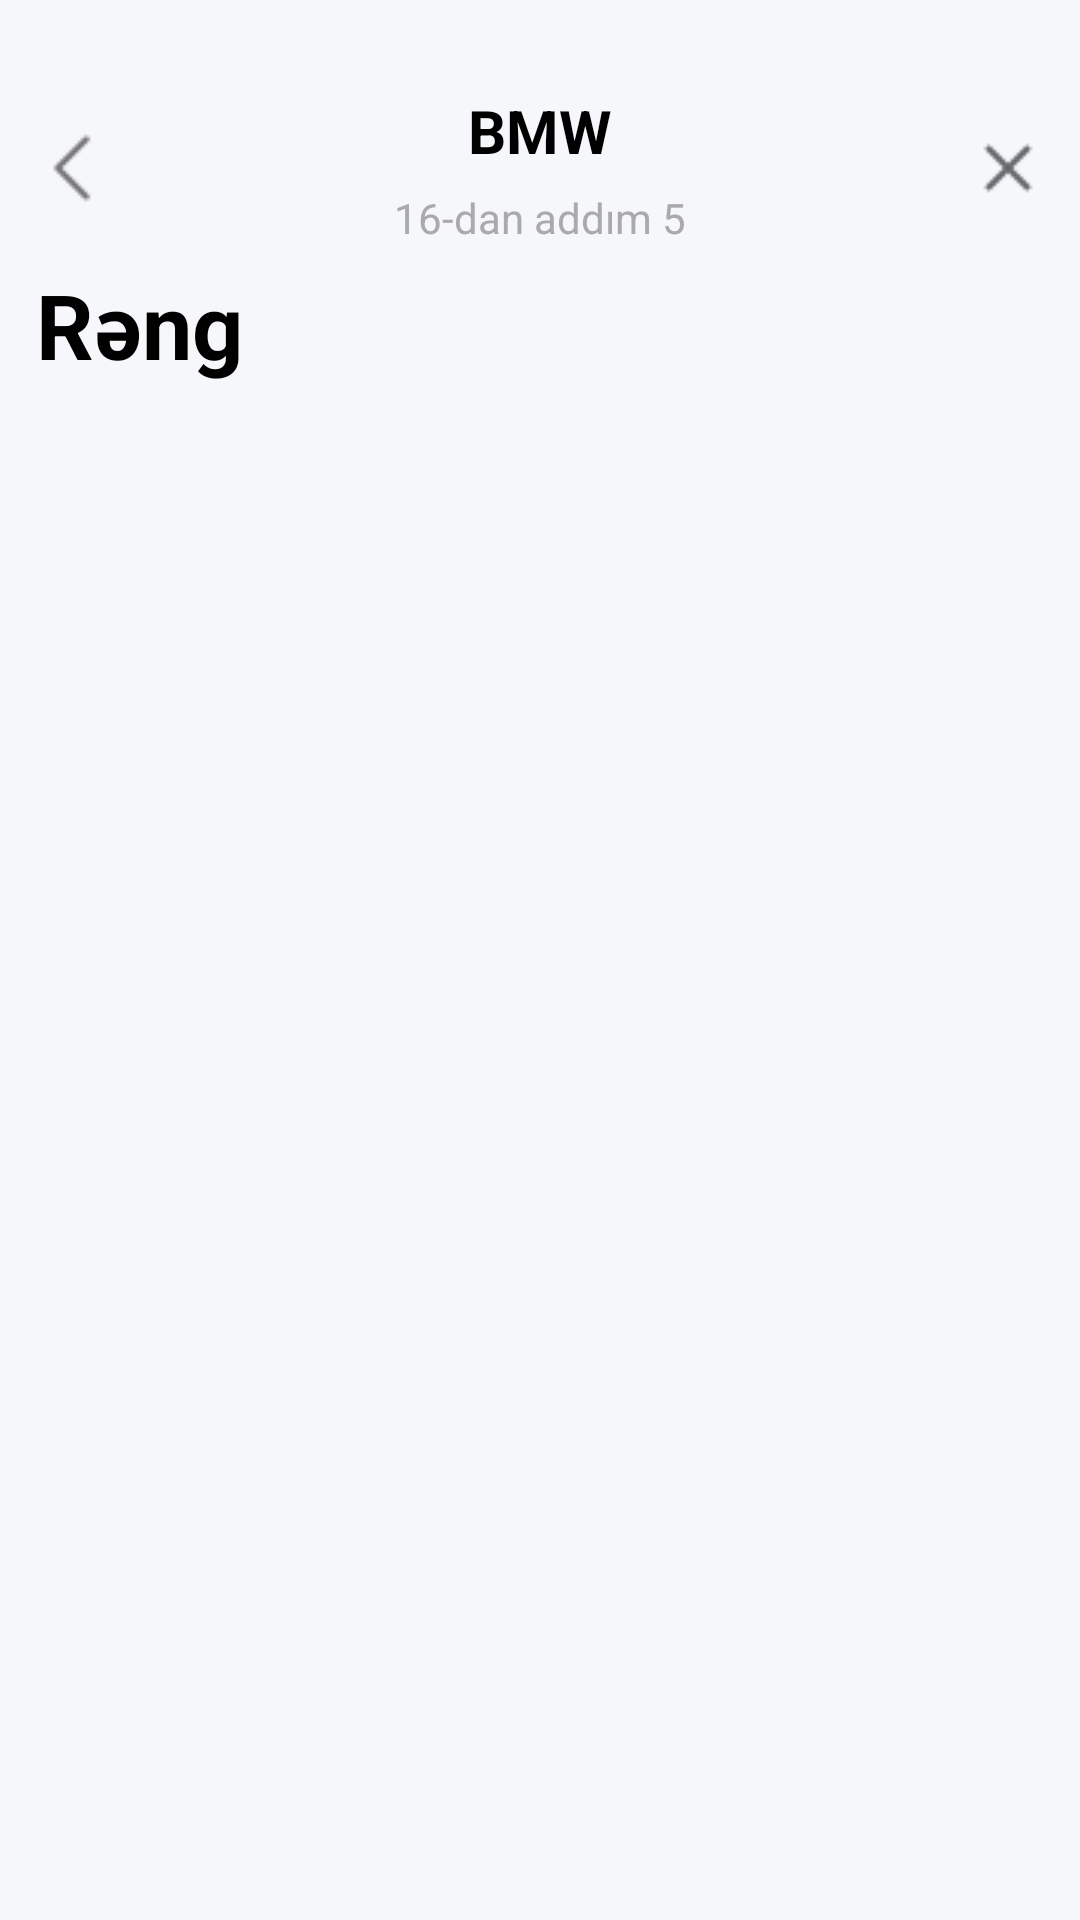

Named icons in this screenshot (1080w x 1920h) and their centers, (x=x, y=y):
back: (x=72, y=168)
cancel: (x=1008, y=168)
